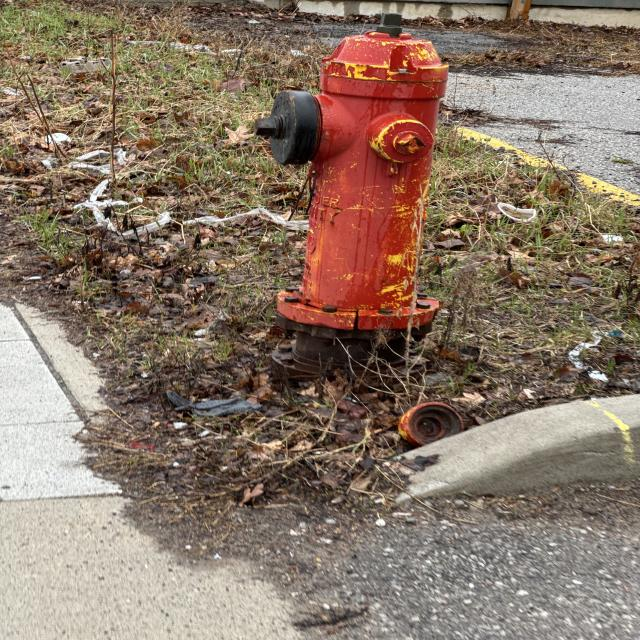Fire hydrant: (250, 12, 450, 340)
